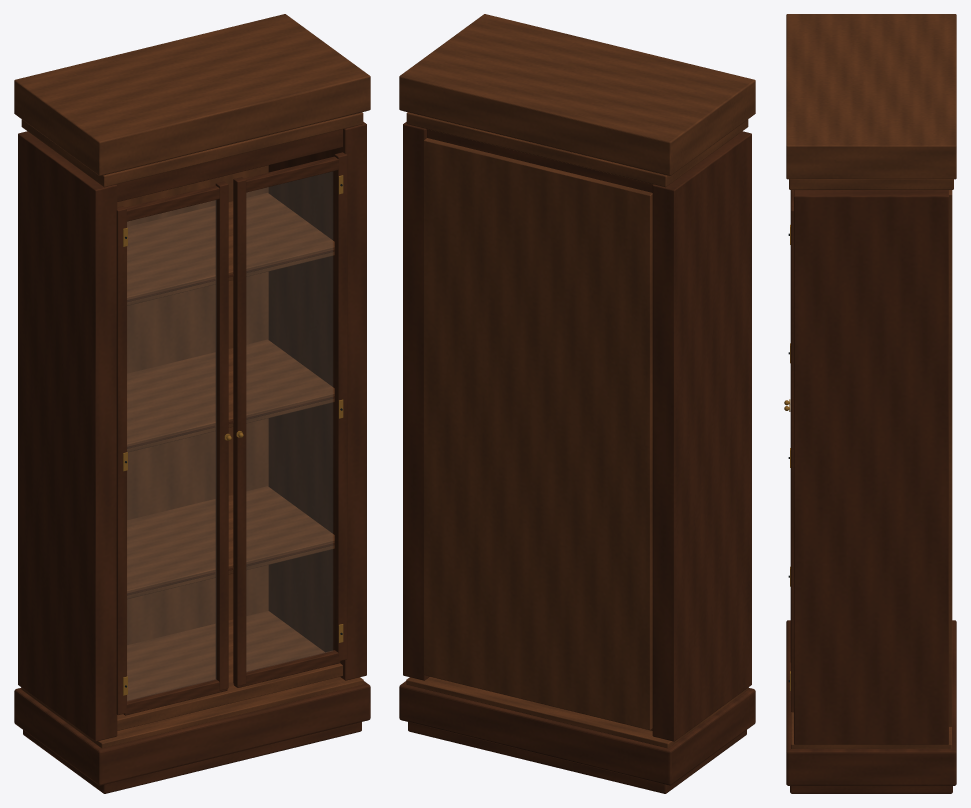
Rendered from asset.glb.
The picture shows the model from 3 angles, left to right: view 1: azimuth 30°, elevation 25°; view 2: azimuth 150°, elevation 25°; view 3: azimuth 270°, elevation 25°; orthographic projection.
Parts seen in each view (by area): view 1: MaterialBatch_Visual_Director_walnut, MaterialBatch_Visual_Director_inner_walnut, MaterialBatch_Aged_brass; view 2: MaterialBatch_Visual_Director_inner_walnut, MaterialBatch_Visual_Director_walnut; view 3: MaterialBatch_Visual_Director_walnut, MaterialBatch_Visual_Director_inner_walnut.
Part boxes in pixels (x1,y1,x2,y2): MaterialBatch_Visual_Director_walnut: (14,111,370,793); MaterialBatch_Visual_Director_inner_walnut: (14,14,370,748); MaterialBatch_Aged_brass: (123,175,343,695); MaterialBatch_Visual_Director_inner_walnut: (399,14,755,748); MaterialBatch_Visual_Director_walnut: (399,111,755,793); MaterialBatch_Visual_Director_walnut: (786,190,956,793); MaterialBatch_Visual_Director_inner_walnut: (786,14,956,748).
Size of the model in its own units: 33 by 76 by 18.21.
5 materials, 5 textured.
